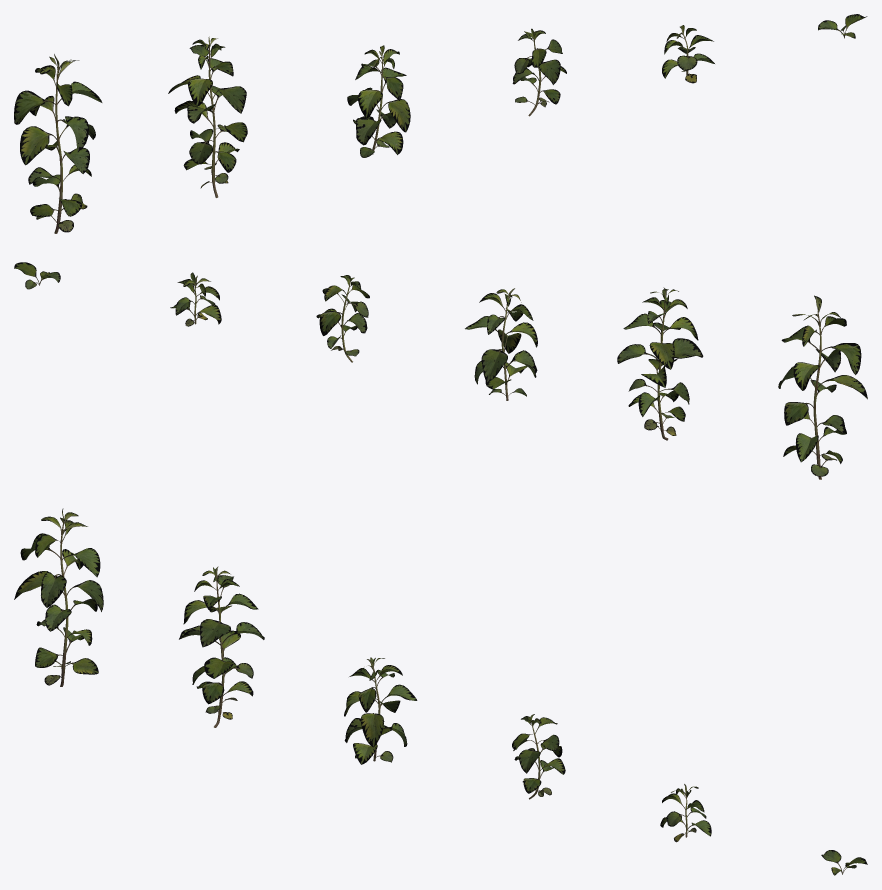
File: nettle-plant.glb
The picture shows the model from 3 angles, top to bottom: view 1: azimuth 30°, elevation 25°; view 2: azimuth 150°, elevation 25°; view 3: azimuth 330°, elevation 25°; orthographic projection.
Parts seen in each view (by area): view 1: nettle_plant_tall_a_LOD0, nettle_plant_tall_b_LOD0, nettle_plant_medium_a_LOD0, nettle_plant_medium_b_LOD0, nettle_plant_small_a_LOD0; view 2: nettle_plant_tall_a_LOD0, nettle_plant_tall_b_LOD0, nettle_plant_medium_a_LOD0, nettle_plant_medium_b_LOD0, nettle_plant_small_a_LOD0, nettle_plant_small_b_LOD0; view 3: nettle_plant_tall_a_LOD0, nettle_plant_tall_b_LOD0, nettle_plant_medium_a_LOD0, nettle_plant_medium_b_LOD0, nettle_plant_small_a_LOD0.
Boxes of the visible parts, x1,y1,x2,y2 form: nettle_plant_tall_a_LOD0: [14, 54, 102, 233]; nettle_plant_tall_b_LOD0: [168, 36, 247, 197]; nettle_plant_medium_a_LOD0: [347, 45, 410, 157]; nettle_plant_medium_b_LOD0: [512, 28, 566, 116]; nettle_plant_small_a_LOD0: [662, 25, 714, 83]; nettle_plant_tall_a_LOD0: [778, 295, 867, 479]; nettle_plant_tall_b_LOD0: [617, 287, 703, 440]; nettle_plant_medium_a_LOD0: [465, 288, 537, 400]; nettle_plant_medium_b_LOD0: [316, 275, 369, 362]; nettle_plant_small_a_LOD0: [170, 272, 221, 326]; nettle_plant_small_b_LOD0: [14, 262, 60, 289]; nettle_plant_tall_a_LOD0: [14, 508, 103, 686]; nettle_plant_tall_b_LOD0: [179, 566, 264, 727]; nettle_plant_medium_a_LOD0: [344, 657, 417, 764]; nettle_plant_medium_b_LOD0: [512, 714, 565, 799]; nettle_plant_small_a_LOD0: [660, 784, 711, 842].
Size of the model in its own units: 1.08 by 0.2184 by 0.0947.
1 material, 1 textured.
